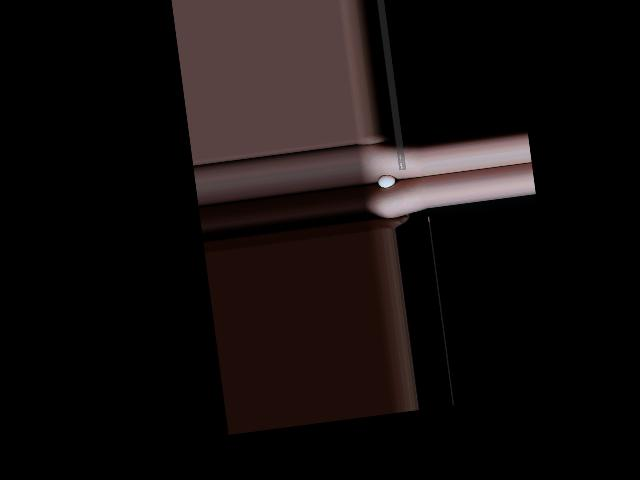egg: (378, 173, 396, 188)
